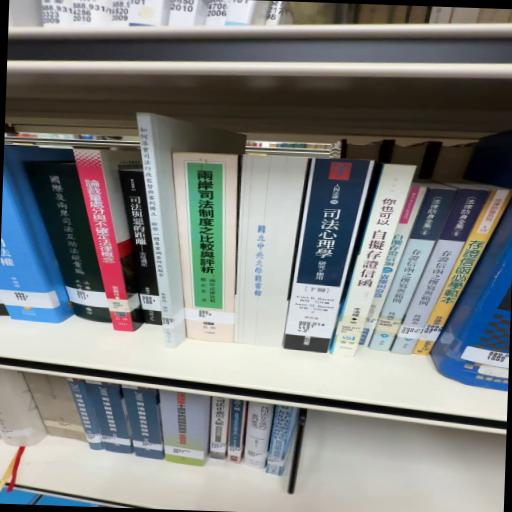backward: (236, 156, 308, 348)
book: (1, 139, 150, 330), (286, 155, 376, 356), (169, 152, 245, 318)
